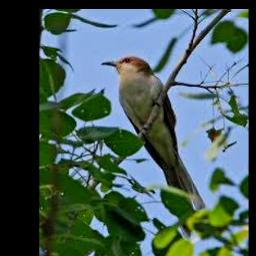Cuckoo: (101, 56, 205, 238)
